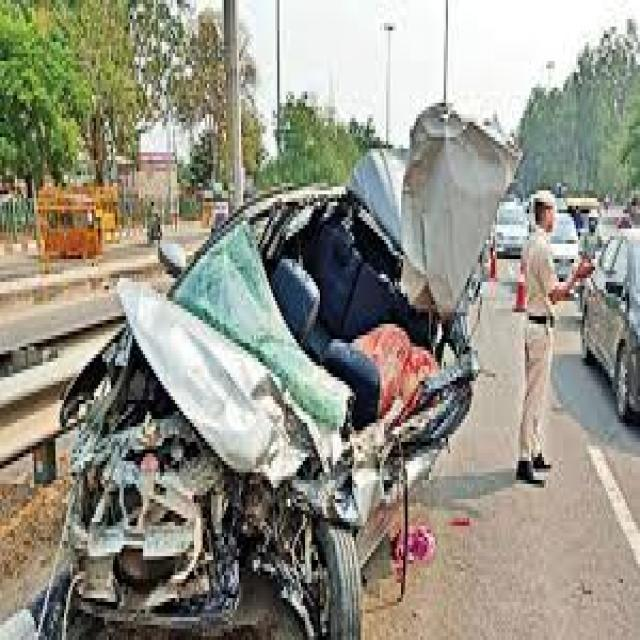accident: (57, 200, 461, 630)
